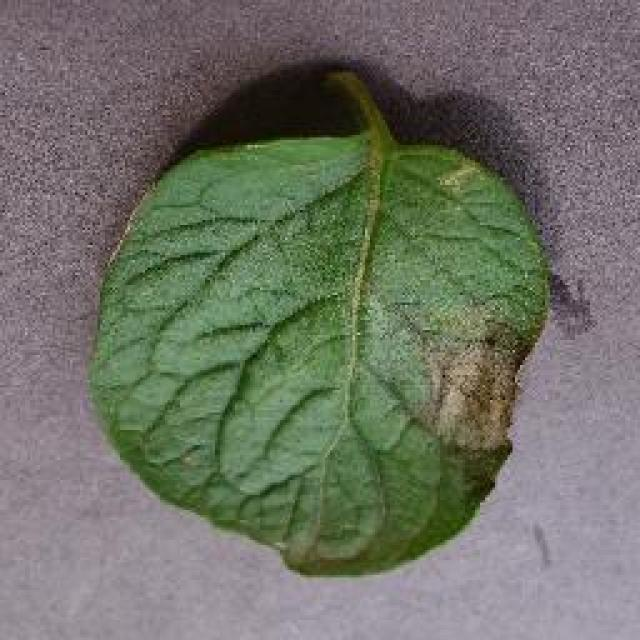Potato___Late_blight: (78, 61, 557, 583)
